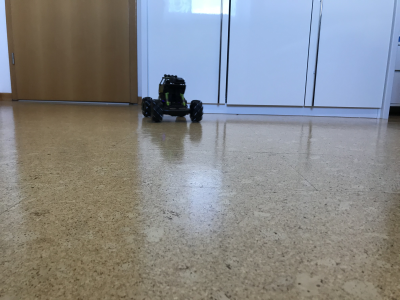remote control car: (136, 67, 207, 127)
